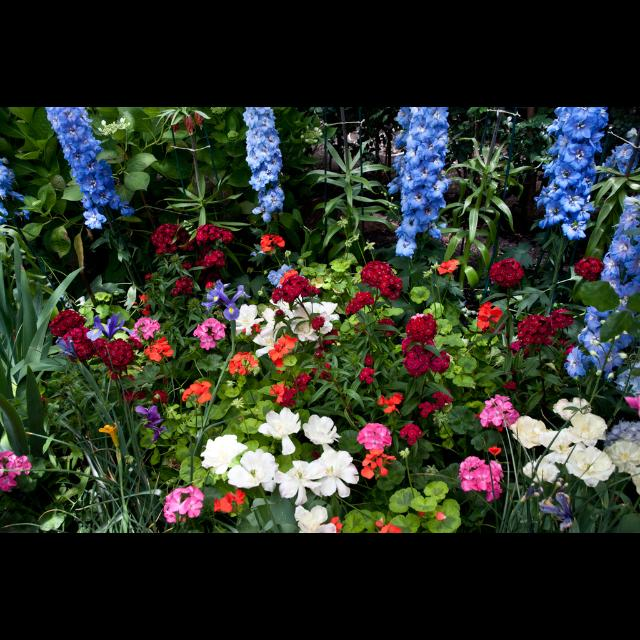Flower: (199, 254, 571, 440), (161, 408, 361, 534), (479, 395, 639, 501), (564, 192, 640, 384), (42, 107, 136, 230), (532, 107, 612, 237), (384, 107, 448, 261), (48, 306, 176, 372), (132, 380, 218, 468), (240, 107, 284, 221), (136, 280, 208, 324), (456, 455, 508, 501), (0, 154, 30, 228), (358, 426, 400, 470), (604, 128, 640, 178), (0, 447, 32, 493), (539, 494, 577, 528), (226, 351, 266, 379), (617, 364, 639, 412), (150, 222, 177, 260), (192, 317, 226, 347), (194, 223, 236, 247), (199, 245, 227, 267), (98, 420, 120, 446), (258, 233, 284, 251), (302, 124, 326, 142), (336, 214, 354, 230), (228, 397, 250, 408), (398, 448, 414, 462), (425, 463, 441, 477), (364, 239, 380, 251), (224, 378, 238, 388), (210, 108, 227, 116), (342, 240, 358, 248), (228, 128, 238, 140), (350, 233, 358, 244)
